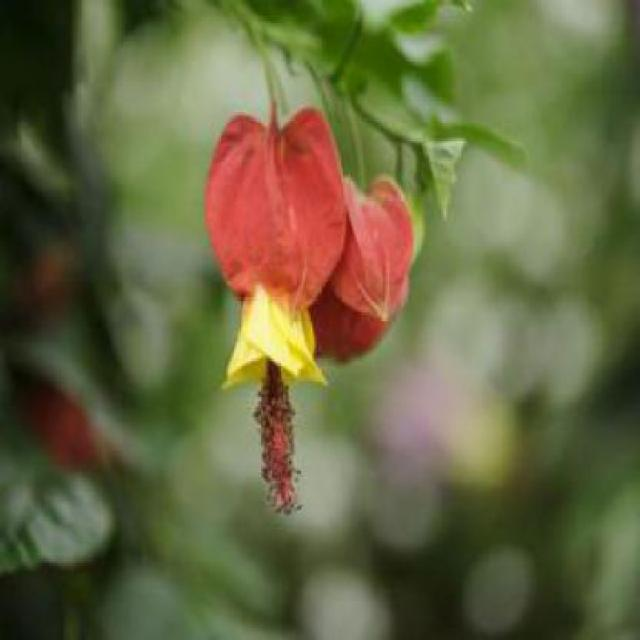Flower: (205, 105, 351, 517)
